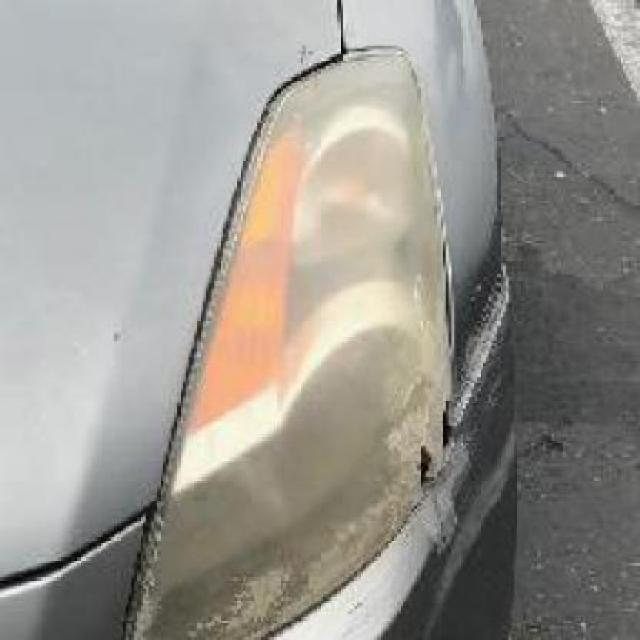damaged-head-light: (168, 45, 464, 638)
